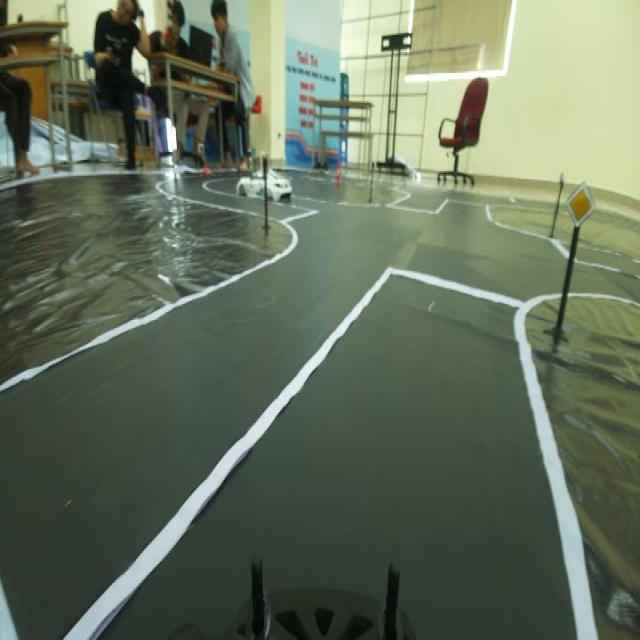priority: (559, 171, 597, 228)
